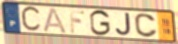A: (42, 7, 69, 35)
C: (133, 13, 159, 39), (20, 4, 43, 33)
F: (67, 9, 86, 34)
G: (89, 9, 112, 37)
J: (114, 12, 132, 37)
